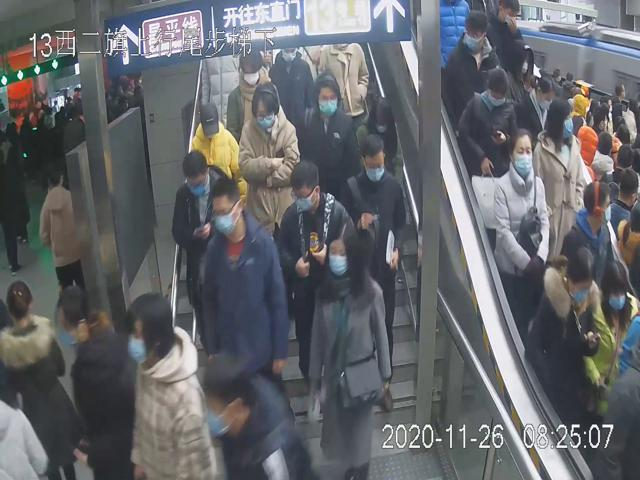person: (307, 217, 396, 480), (202, 176, 293, 389), (345, 129, 408, 412), (275, 159, 350, 382), (491, 123, 552, 307), (170, 144, 228, 334), (237, 79, 298, 233), (295, 70, 358, 193), (223, 48, 273, 143), (186, 99, 238, 186)
